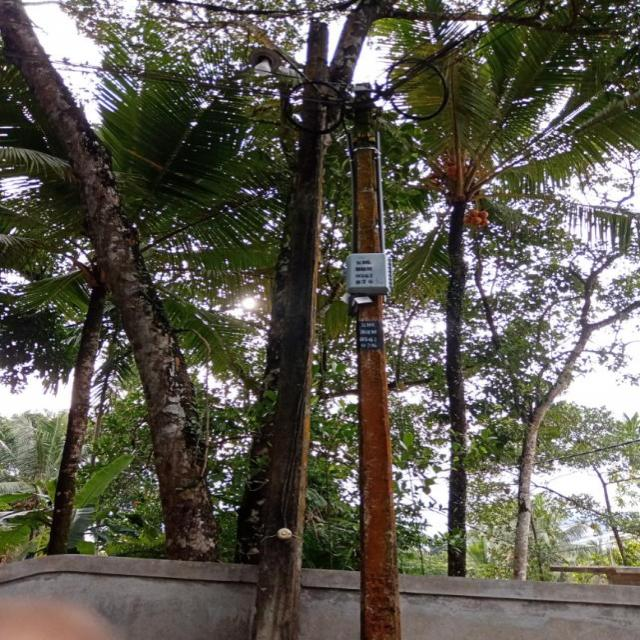light_pole: (246, 12, 332, 640), (341, 82, 407, 640)
